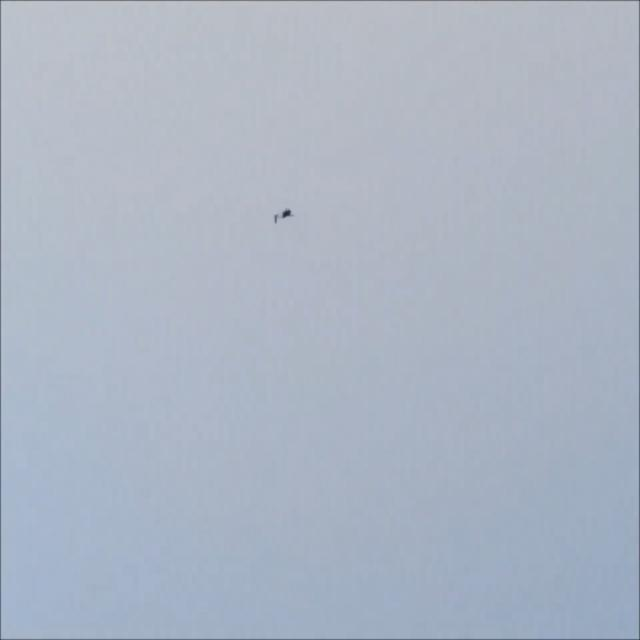UAV: (272, 190, 312, 265)
